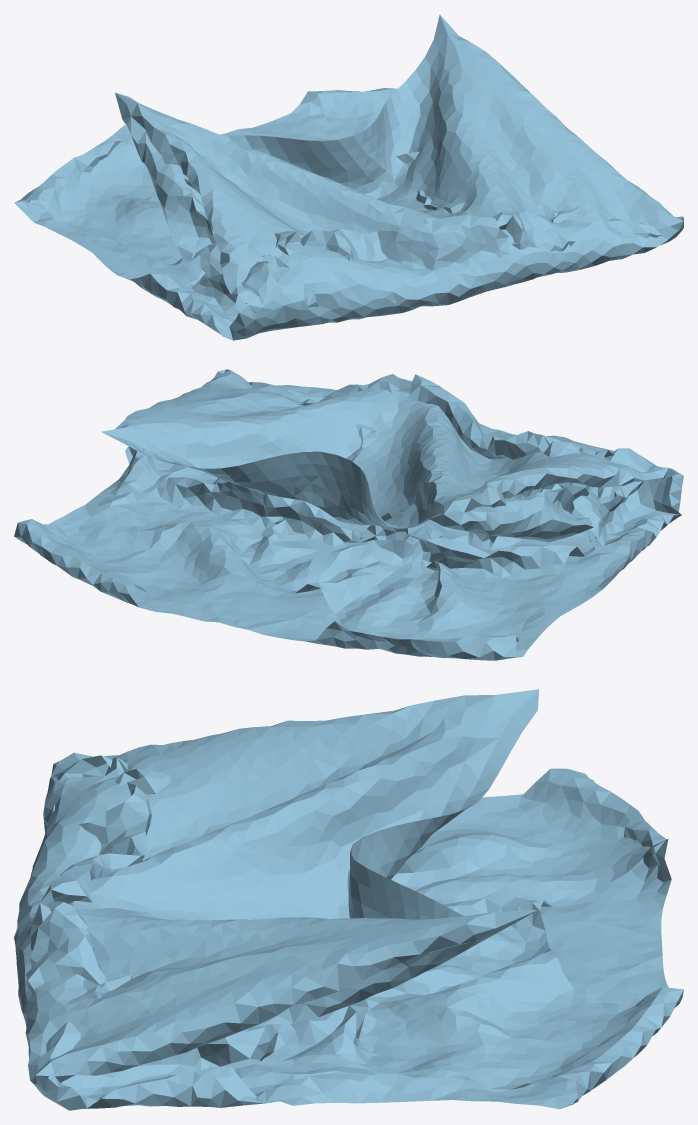
Rendered from frame_17.glb.
3 views of the same model, one above another, from view 1: azimuth 30°, elevation 25°; view 2: azimuth 150°, elevation 25°; view 3: azimuth 270°, elevation 25° (orthographic). The views are drawn at different scales.
Visible parts, largest first — view 1: frame_17.obj; view 2: frame_17.obj; view 3: frame_17.obj.
Boxes of the visible parts, left/top/right/bottom form: frame_17.obj: left=14, top=14, right=683, bottom=340; frame_17.obj: left=14, top=369, right=683, bottom=660; frame_17.obj: left=14, top=689, right=683, bottom=1110.
Bounding box in the file's own units: 1.25 × 0.2939 × 1.08.
